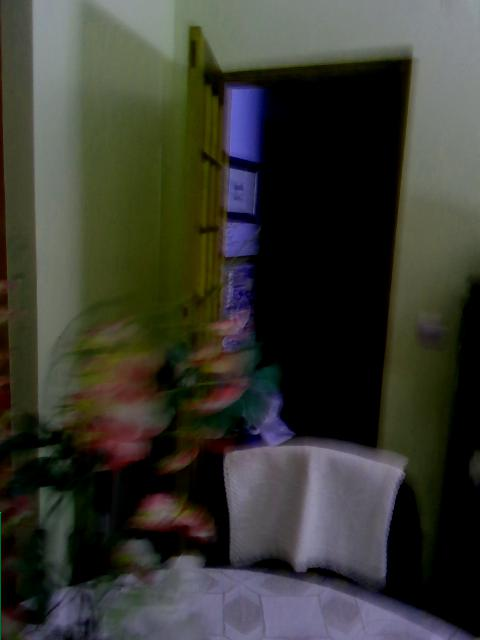open_door: (204, 53, 415, 559)
